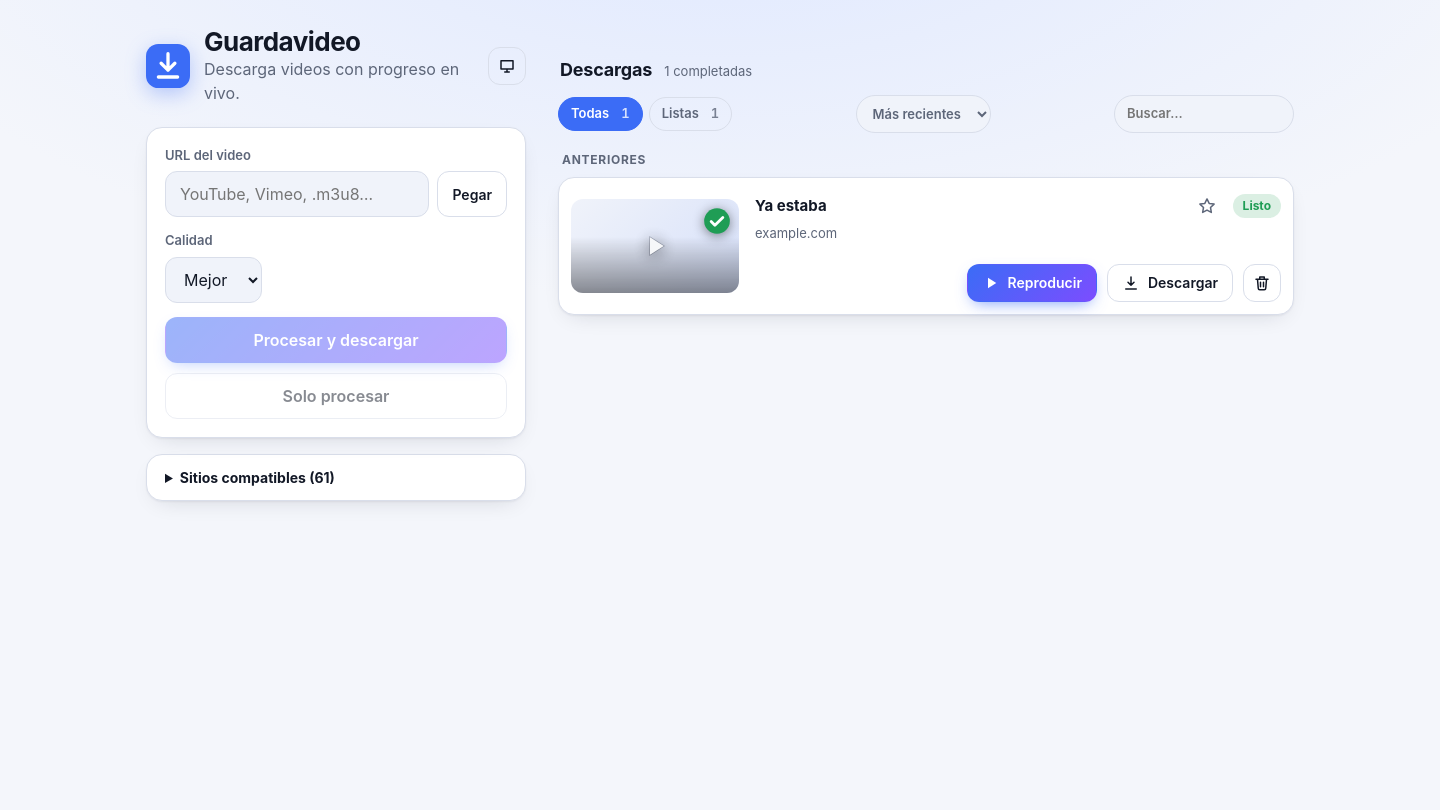
Test: App (integración con fetch simulado) › evitar descargas repetidas › si el servidor ya tenía el video avisa y no duplica la fila
Expected: the heading "Ya estaba" is shown, top-left (755, 195), bottom-right (827, 217)
Type "https://example.com/v.mp4" into the field labelled "URL del video" at (297, 194), box top-left (165, 171), bottom-right (429, 217)
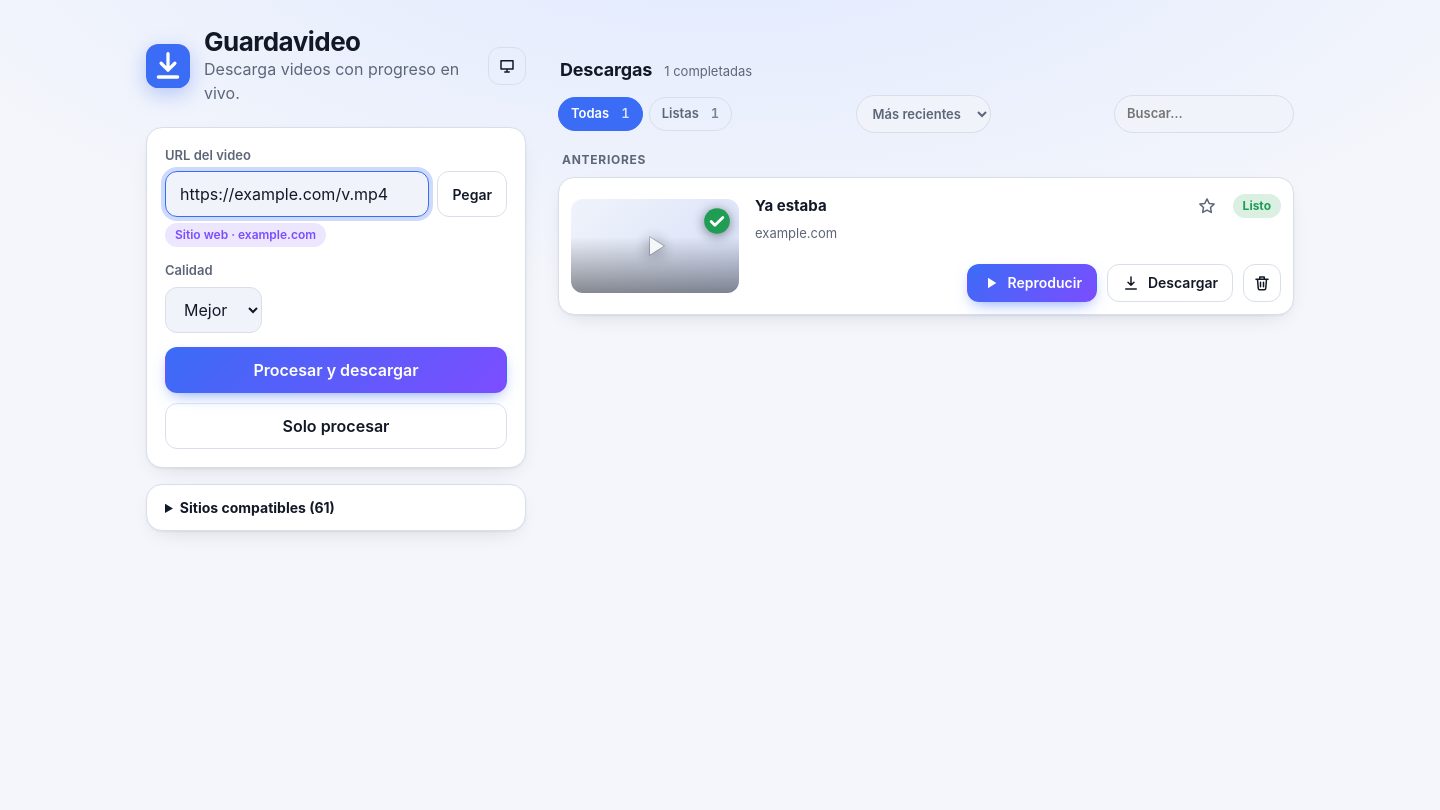
Click the button "Procesar y descargar" at (336, 370), box top-left (165, 347), bottom-right (507, 393)
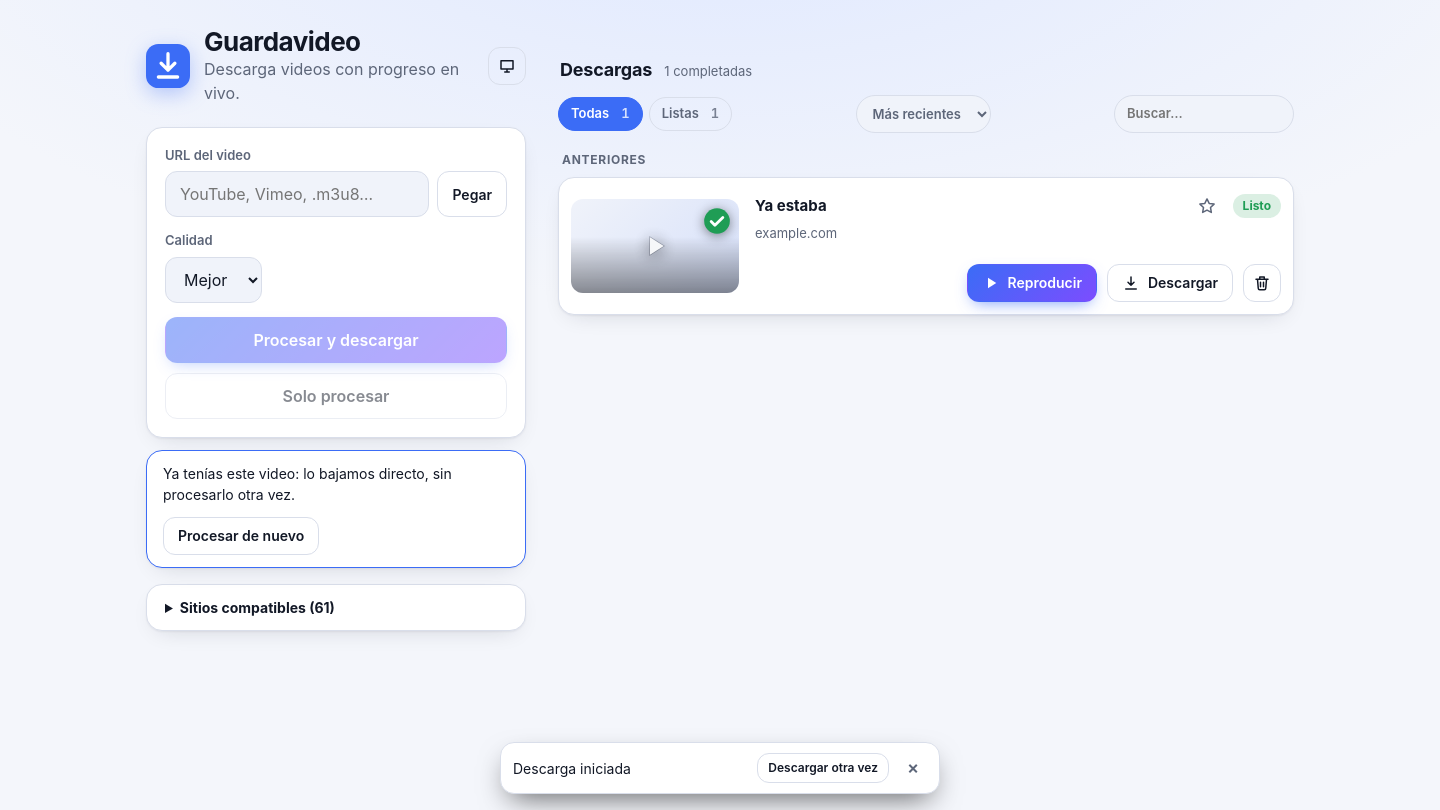
Expected: the number of headings "Ya estaba" is 1, top-left (755, 195), bottom-right (827, 217)
Expected: the text "Ya tenías este video" is shown, top-left (163, 465), bottom-right (452, 503)
